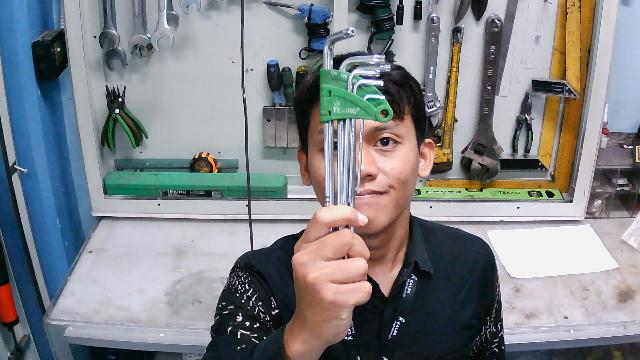kunci_l_bintang: (311, 24, 393, 300)
